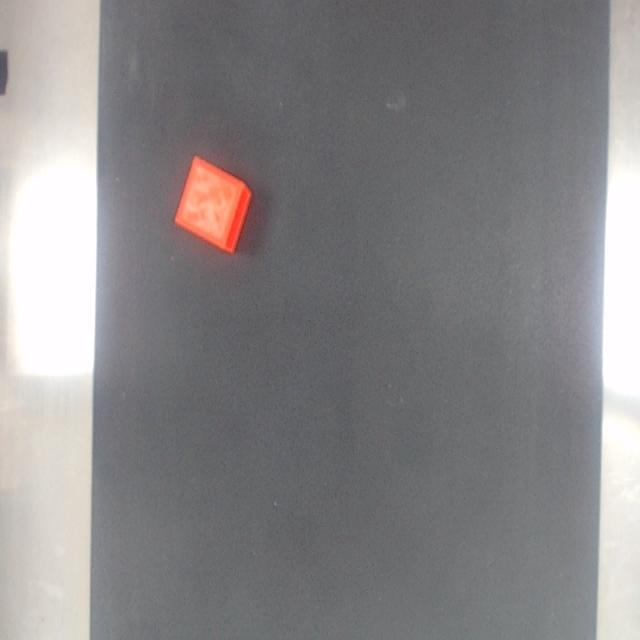Rojo: (174, 156, 251, 252)
